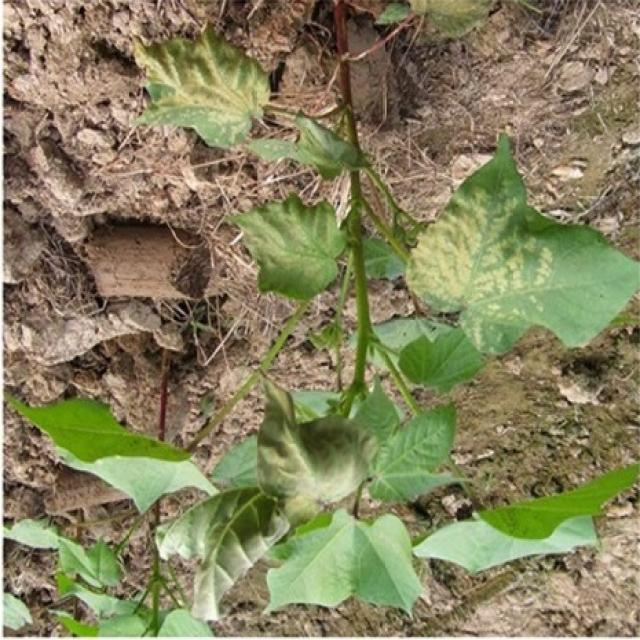Fusarium Wilt: (7, 1, 610, 640)
